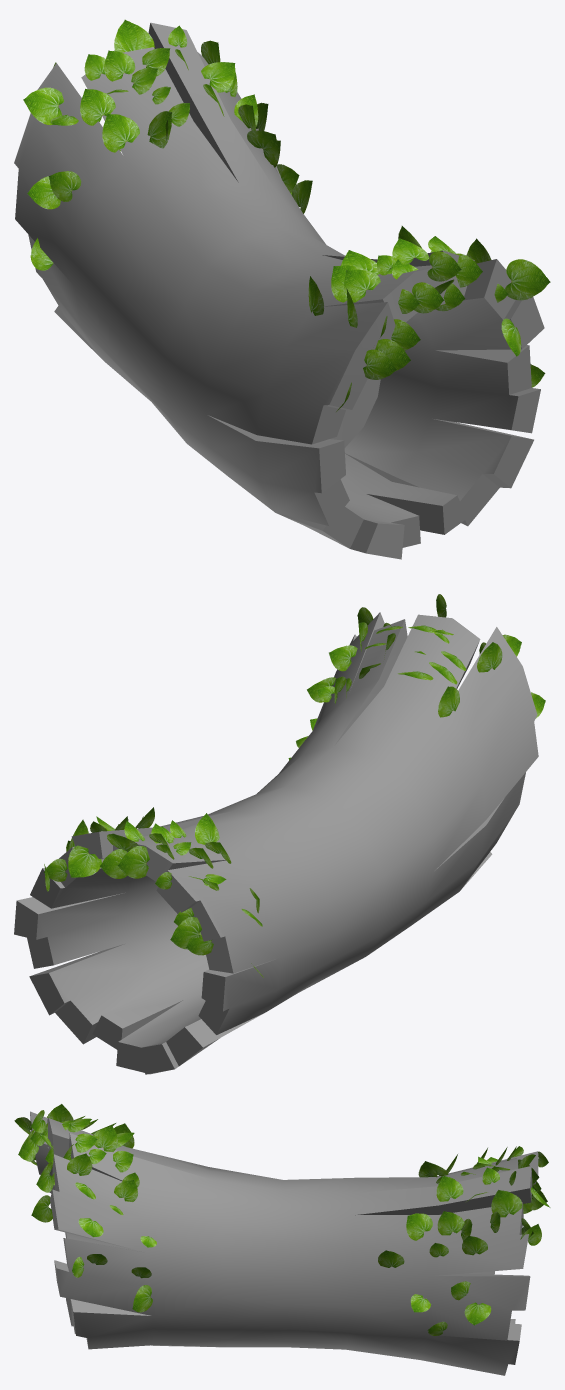
Rendered from trunk.FBX.
3 renders of one model, top to bottom at view 1: azimuth 30°, elevation 25°; view 2: azimuth 150°, elevation 25°; view 3: azimuth 270°, elevation 25°, orthographic. The views are drawn at different scales.
Parts seen in each view (by area): view 1: Cylinder001, Plane025; view 2: Cylinder001, Plane025; view 3: Cylinder001, Plane025.
Part boxes in pixels (bbox=[...]): Cylinder001: bbox=[14, 22, 544, 559]; Plane025: bbox=[23, 19, 550, 411]; Cylinder001: bbox=[14, 612, 538, 1074]; Plane025: bbox=[44, 594, 545, 977]; Cylinder001: bbox=[30, 1111, 538, 1375]; Plane025: bbox=[14, 1104, 550, 1336].
Bounding box in the file's own units: 9.72 × 21.27 × 10.58.
2 materials, 1 textured.
